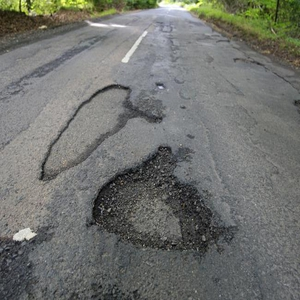pothole: (92, 149, 219, 257), (34, 84, 145, 183)
